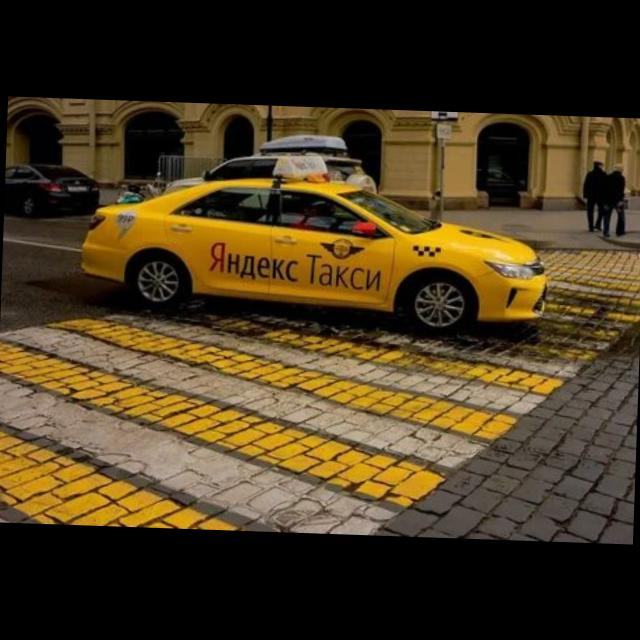taxi: (77, 143, 553, 338)
